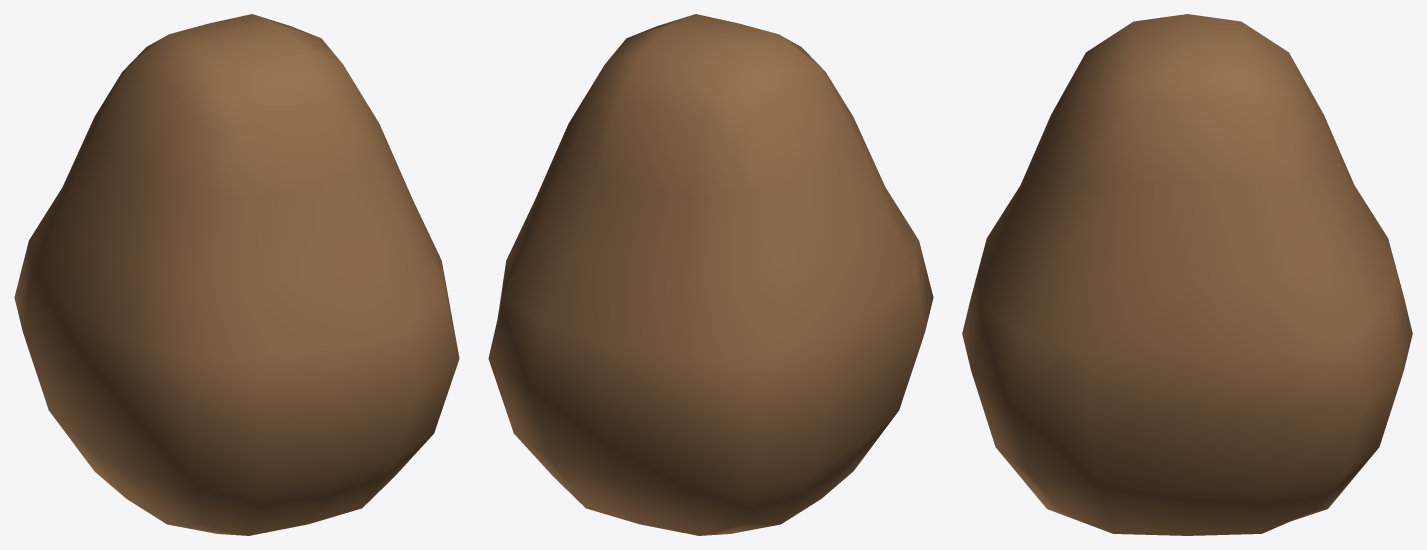
The model's file is Potato_Mesh_01.fbx.
The picture shows the model from 3 angles, left to right: view 1: azimuth 30°, elevation 25°; view 2: azimuth 150°, elevation 25°; view 3: azimuth 270°, elevation 25°; orthographic projection. The views are drawn at different scales.
Visible parts, largest first — view 1: Potato; view 2: Potato; view 3: Potato.
Part boxes in pixels (bbox=[...]): Potato: bbox=[14, 14, 459, 535]; Potato: bbox=[488, 14, 933, 535]; Potato: bbox=[962, 14, 1412, 535].
Bounding box in the file's own units: 0.7338 × 0.9258 × 0.8088.
